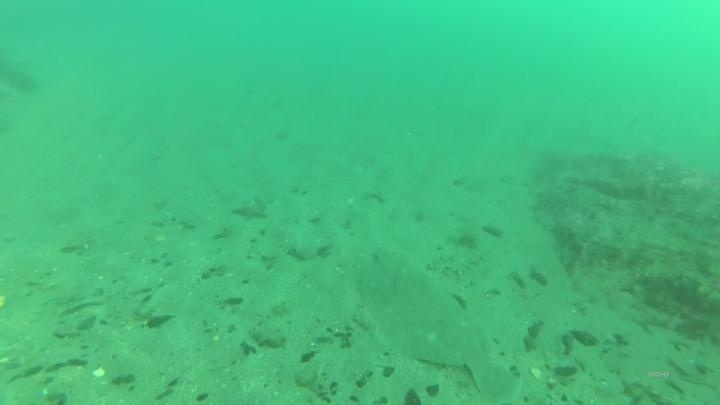starfish: (230, 195, 272, 223)
